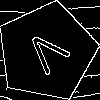V: (22, 27, 78, 83)
